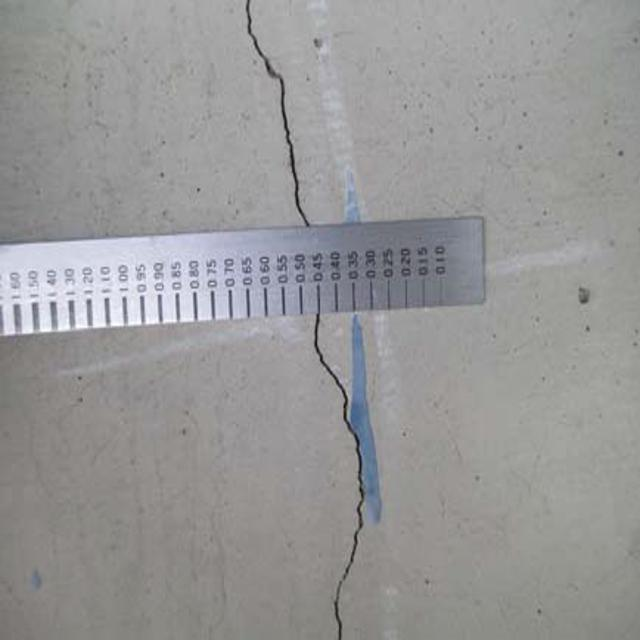crack: (287, 311, 377, 640), (233, 4, 324, 233)
